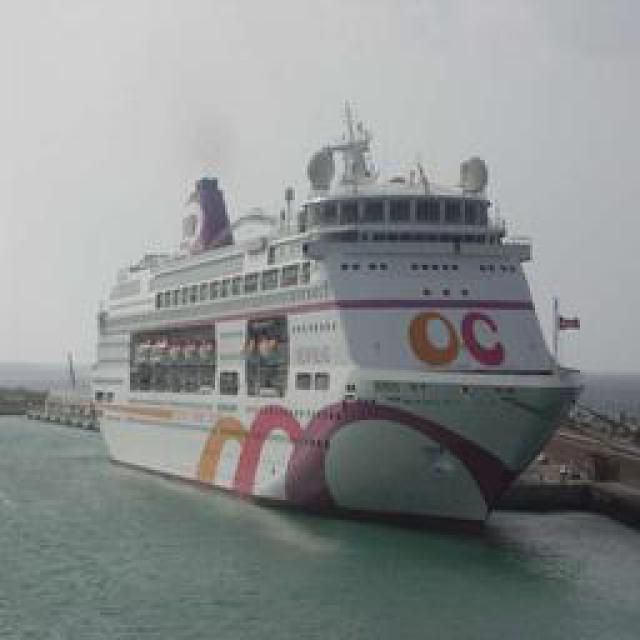Ship: (96, 106, 594, 524)
